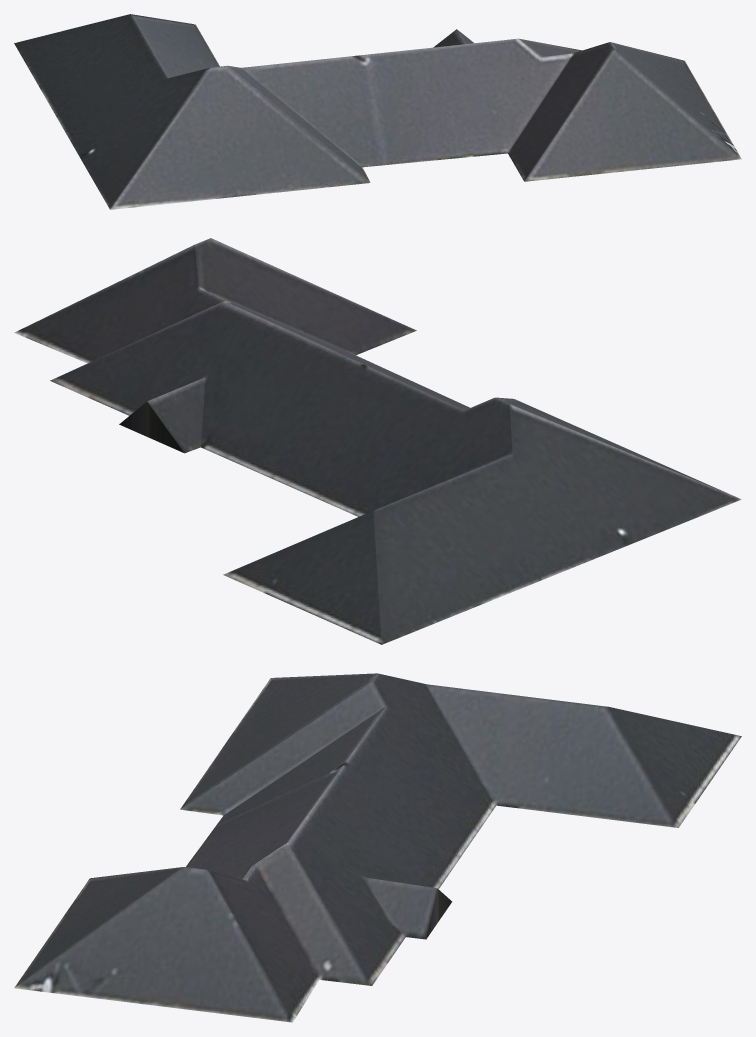
File: CG10_500_038065_0027_roof.obj
3 renders of one model, top to bottom at view 1: azimuth 30°, elevation 25°; view 2: azimuth 150°, elevation 25°; view 3: azimuth 270°, elevation 25°, orthographic. The views are drawn at different scales.
Parts seen in each view (by area): view 1: CG10_500_038065_0027_roof; view 2: CG10_500_038065_0027_roof; view 3: CG10_500_038065_0027_roof.
Part boxes in pixels (x1=…): CG10_500_038065_0027_roof: x1=14, y1=14, x2=741, y2=209; CG10_500_038065_0027_roof: x1=14, y1=238, x2=741, y2=644; CG10_500_038065_0027_roof: x1=14, y1=673, x2=741, y2=1022.
Bounding box in the file's own units: 573 × 70 × 511.
Materials: 1 (1 with a texture image).
